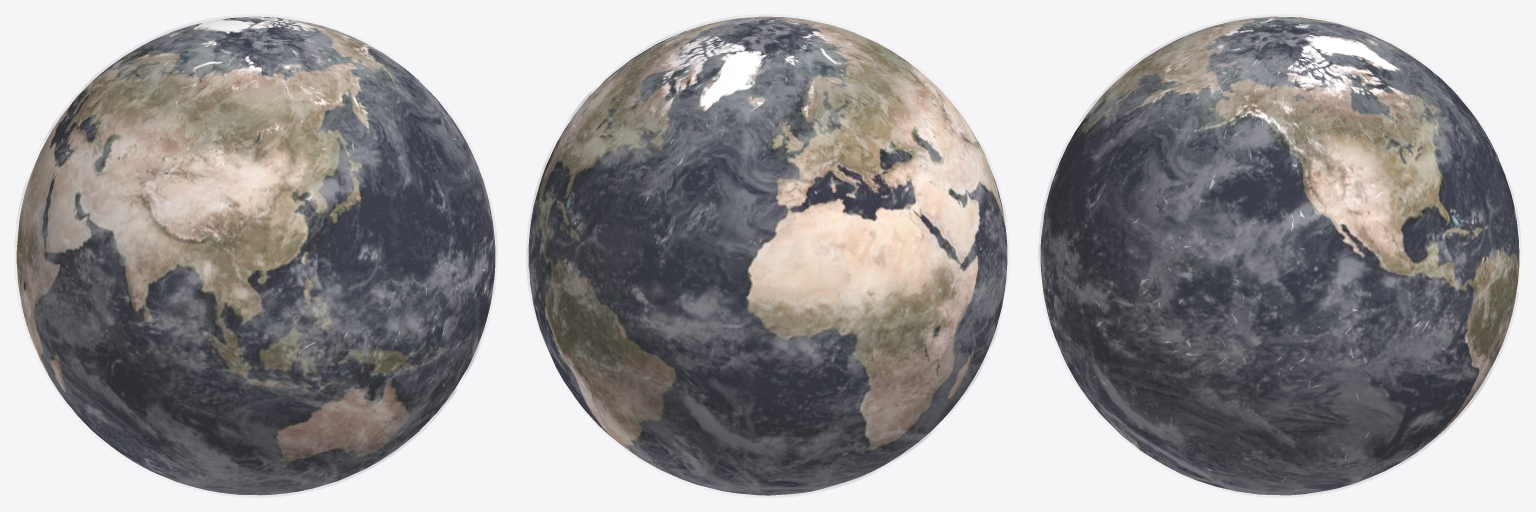
Rendered from comp.glb.
3 renders of one model, left to right at view 1: azimuth 30°, elevation 25°; view 2: azimuth 150°, elevation 25°; view 3: azimuth 270°, elevation 25°, orthographic.
Visible parts, largest first — view 1: Earth_Diffuse_6K, Earth_Diffuse_6K.001; view 2: Earth_Diffuse_6K, Earth_Diffuse_6K.001; view 3: Earth_Diffuse_6K, Earth_Diffuse_6K.001.
Part boxes in pixels (<box>): Earth_Diffuse_6K: <box>16,16,495,495</box>; Earth_Diffuse_6K.001: <box>14,14,497,497</box>; Earth_Diffuse_6K: <box>528,16,1007,495</box>; Earth_Diffuse_6K.001: <box>526,14,1009,497</box>; Earth_Diffuse_6K: <box>1040,16,1519,495</box>; Earth_Diffuse_6K.001: <box>1038,14,1521,497</box>.
Bounding box in the file's own units: 275 × 275 × 275.
2 materials, 2 textured.
